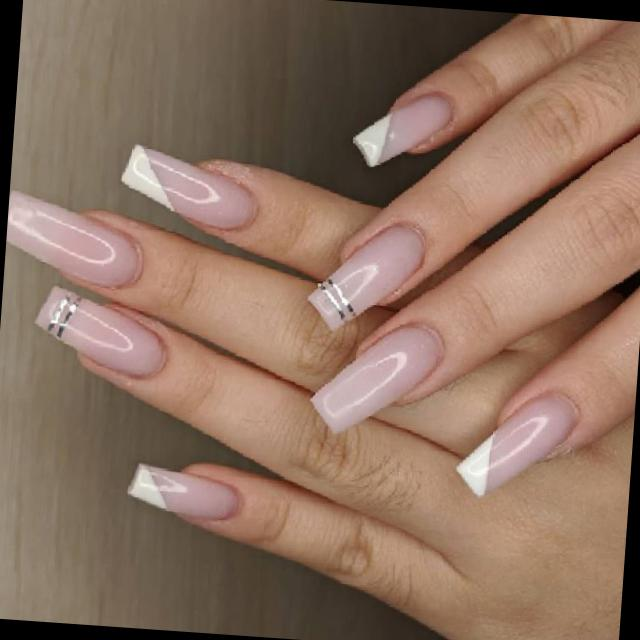Nail: (312, 326, 440, 431), (5, 191, 139, 286), (309, 224, 424, 328), (458, 394, 574, 492), (35, 289, 162, 376), (121, 144, 250, 229), (353, 95, 449, 166), (128, 464, 237, 519)
